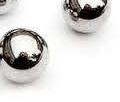ironball: (0, 25, 53, 88), (61, 0, 114, 37), (0, 0, 25, 15)
